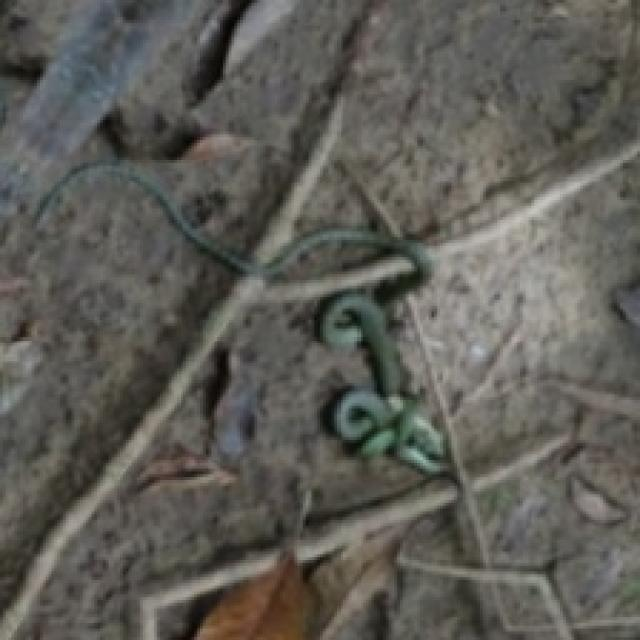paradise tree snake: (40, 160, 446, 474), (320, 291, 446, 471)
